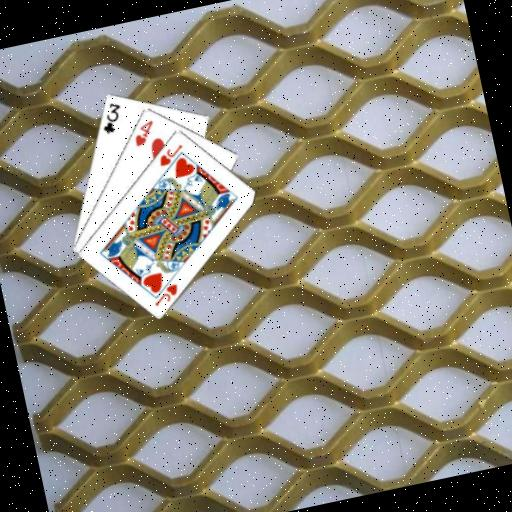3C: (94, 98, 126, 136)
4H: (127, 117, 159, 149)
JH: (153, 139, 188, 168), (148, 280, 183, 309)
